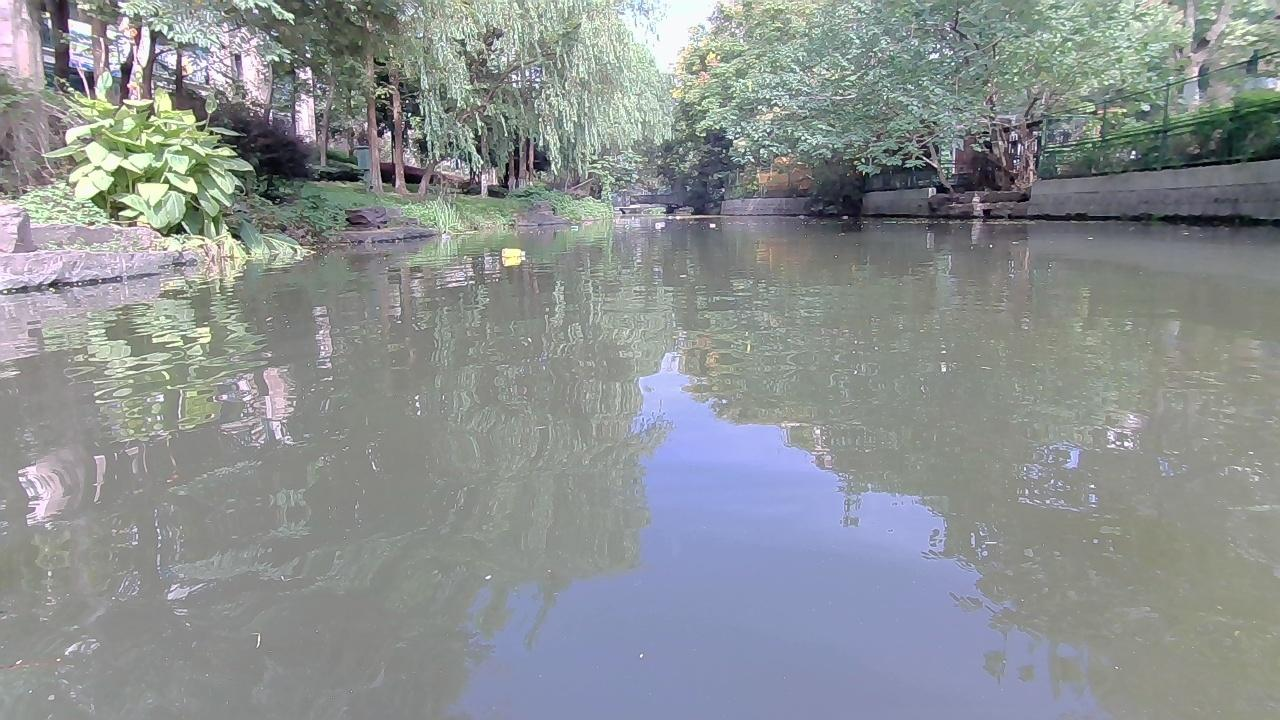bottle: (498, 246, 526, 260), (652, 221, 665, 230), (707, 219, 717, 228), (580, 219, 591, 226), (568, 224, 578, 231)
